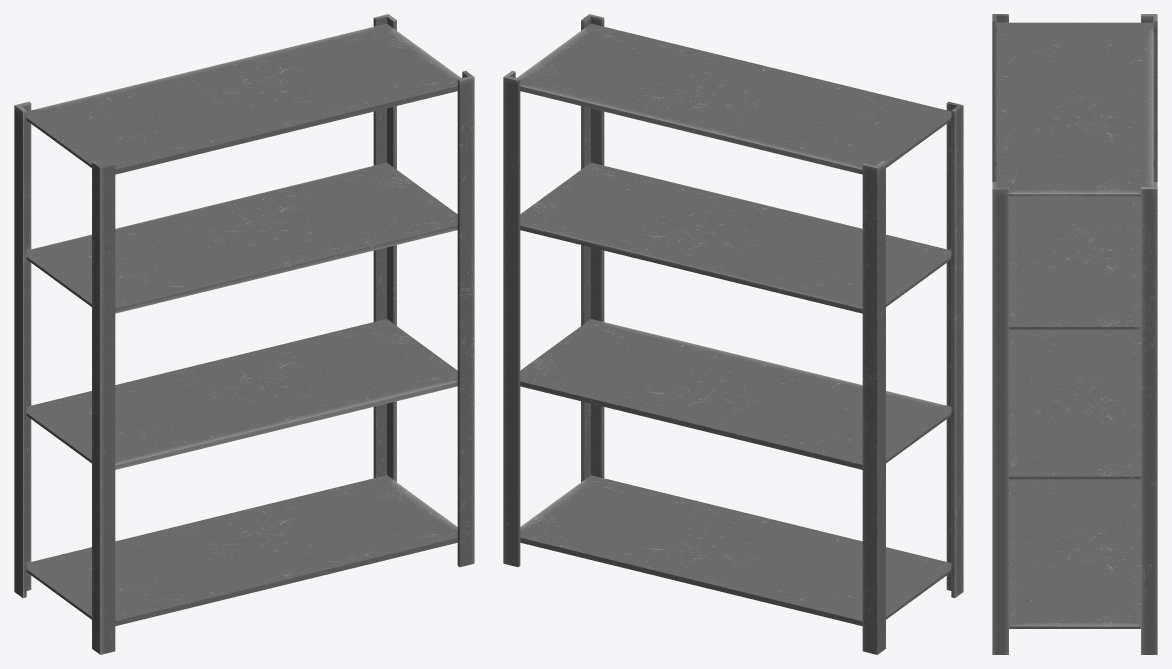
The model's file is OpenShelves.fbx.
3 renders of one model, left to right at view 1: azimuth 30°, elevation 25°; view 2: azimuth 150°, elevation 25°; view 3: azimuth 270°, elevation 25°, orthographic. The views are drawn at different scales.
Visible parts, largest first — view 1: StockingShelf; view 2: StockingShelf; view 3: StockingShelf.
Part boxes in pixels (x1=…): StockingShelf: x1=14, y1=14, x2=474, y2=654; StockingShelf: x1=503, y1=14, x2=963, y2=654; StockingShelf: x1=992, y1=14, x2=1157, y2=654.
Size of the model in its own units: 308 by 383 by 123.
Materials: 1 (1 with a texture image).
